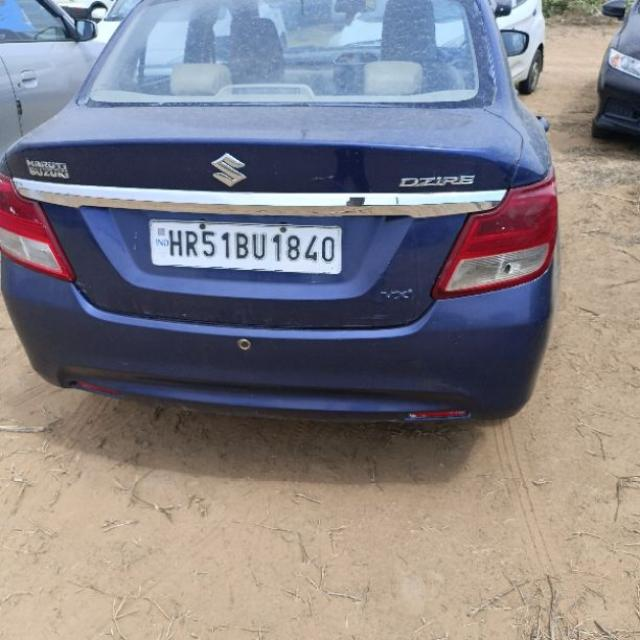license_plate: (147, 218, 343, 275)
